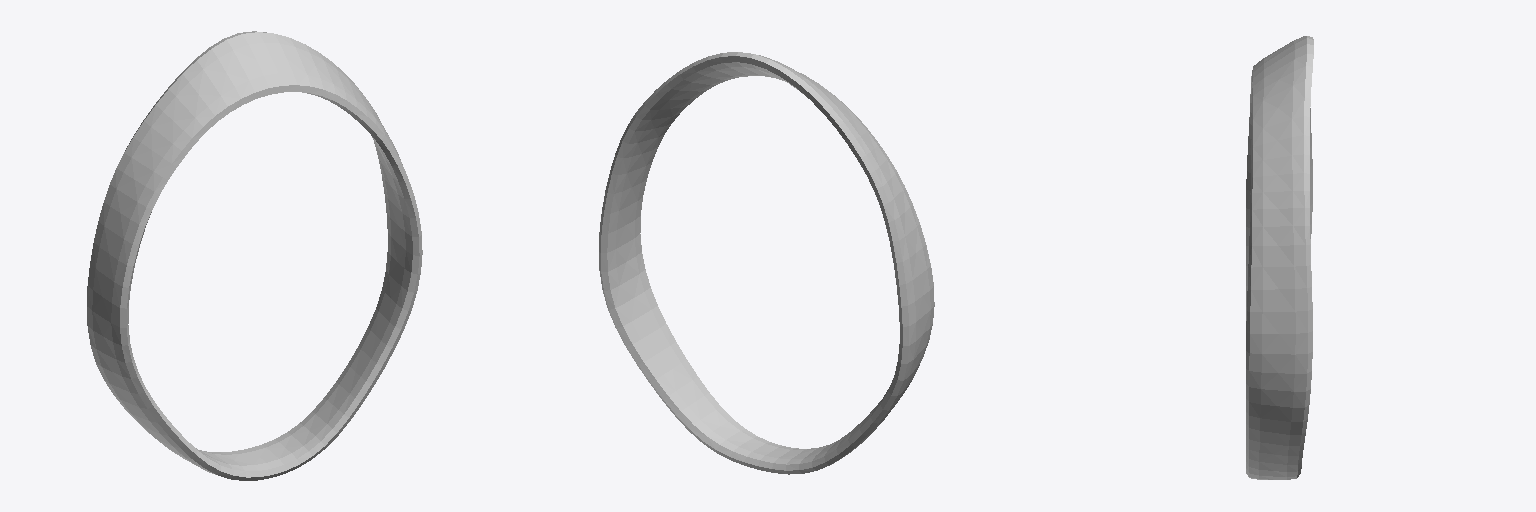
The picture shows the model from 3 angles: view 1: azimuth 30°, elevation 25°; view 2: azimuth 150°, elevation 25°; view 3: azimuth 270°, elevation 25°; orthographic projection.
Parts seen in each view (by area): view 1: 6_cancan_dress_body0_model0.006; view 2: 6_cancan_dress_body0_model0.006; view 3: 6_cancan_dress_body0_model0.006.
Part boxes in pixels (x1,y1,x2,y2): 6_cancan_dress_body0_model0.006: (87,31,422,480); 6_cancan_dress_body0_model0.006: (599,52,934,474); 6_cancan_dress_body0_model0.006: (1246,36,1313,479).
Size of the model in its own units: 10.12 by 13.14 by 1.92.